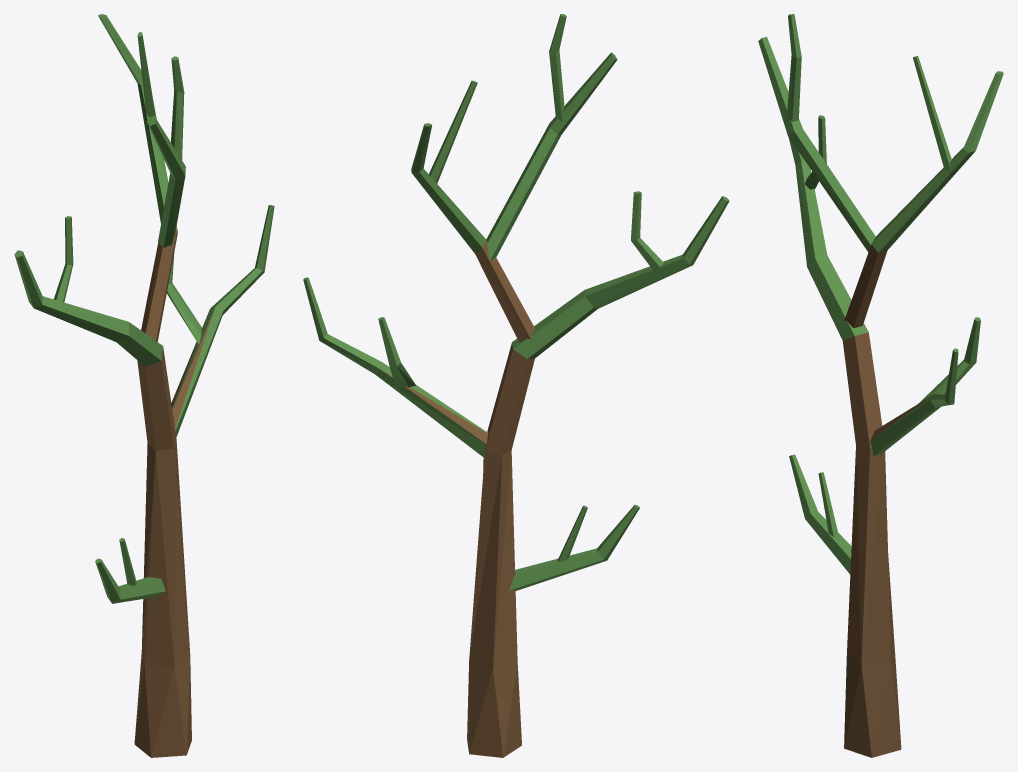
Rendered from tree3d-178.glb.
3 views of the same model, side by side, from view 1: azimuth 30°, elevation 25°; view 2: azimuth 150°, elevation 25°; view 3: azimuth 270°, elevation 25° (orthographic). The views are drawn at different scales.
Visible parts, largest first — view 1: tree3d-178; view 2: tree3d-178; view 3: tree3d-178.
Part boxes in pixels (bbox=[...]): tree3d-178: bbox=[14, 14, 274, 757]; tree3d-178: bbox=[303, 14, 729, 757]; tree3d-178: bbox=[758, 14, 1003, 757].
Bounding box in the file's own units: 0.4997 × 1 × 0.3109.
